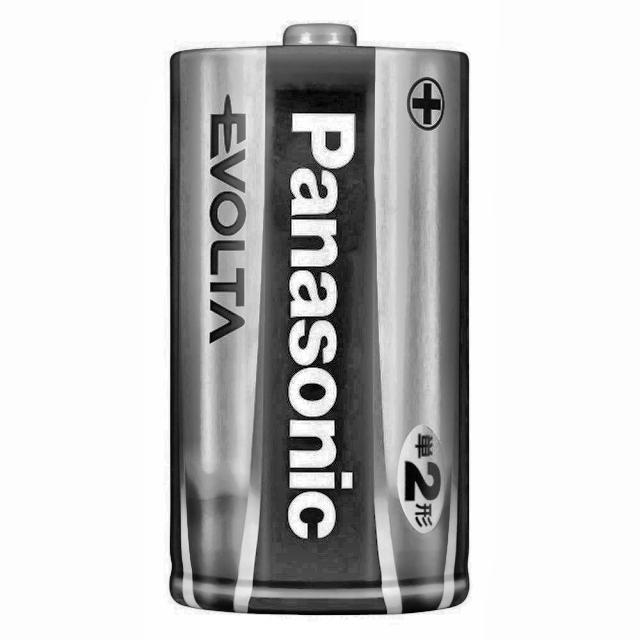drycell: (162, 21, 474, 619)
